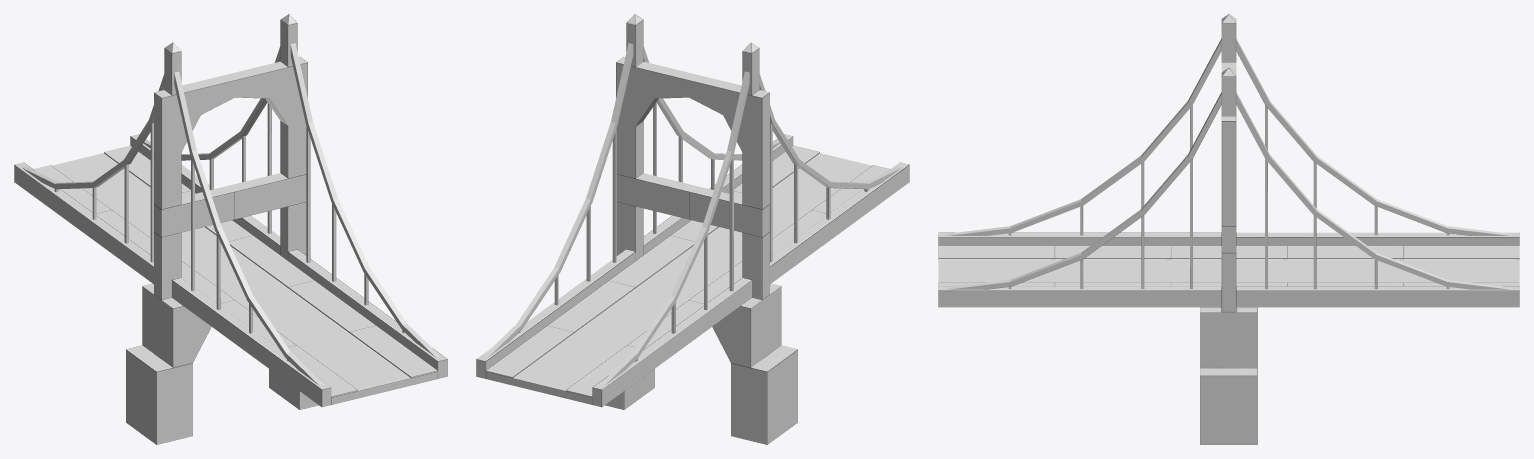
File: Bridge-05.fbx
3 views of the same model, side by side, from view 1: azimuth 30°, elevation 25°; view 2: azimuth 150°, elevation 25°; view 3: azimuth 270°, elevation 25° (orthographic). The views are drawn at different scales.
Parts seen in each view (by area): view 1: Bridge_05; view 2: Bridge_05; view 3: Bridge_05.
Boxes of the visible parts, x1=… form: Bridge_05: x1=14, y1=14, x2=447, y2=444; Bridge_05: x1=476, y1=14, x2=909, y2=444; Bridge_05: x1=938, y1=14, x2=1519, y2=444.
Bounding box in the file's own units: 6.74 × 13.77 × 20.
